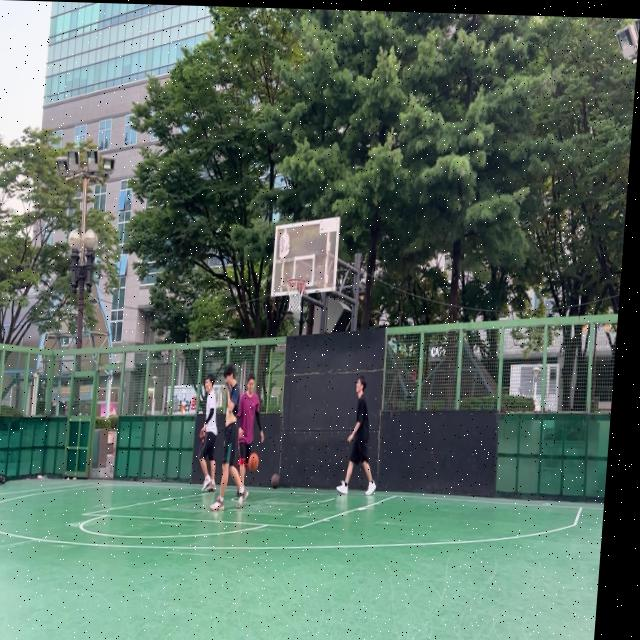basketball: (247, 453, 259, 473), (270, 473, 281, 489)
hoop: (284, 277, 307, 312)
